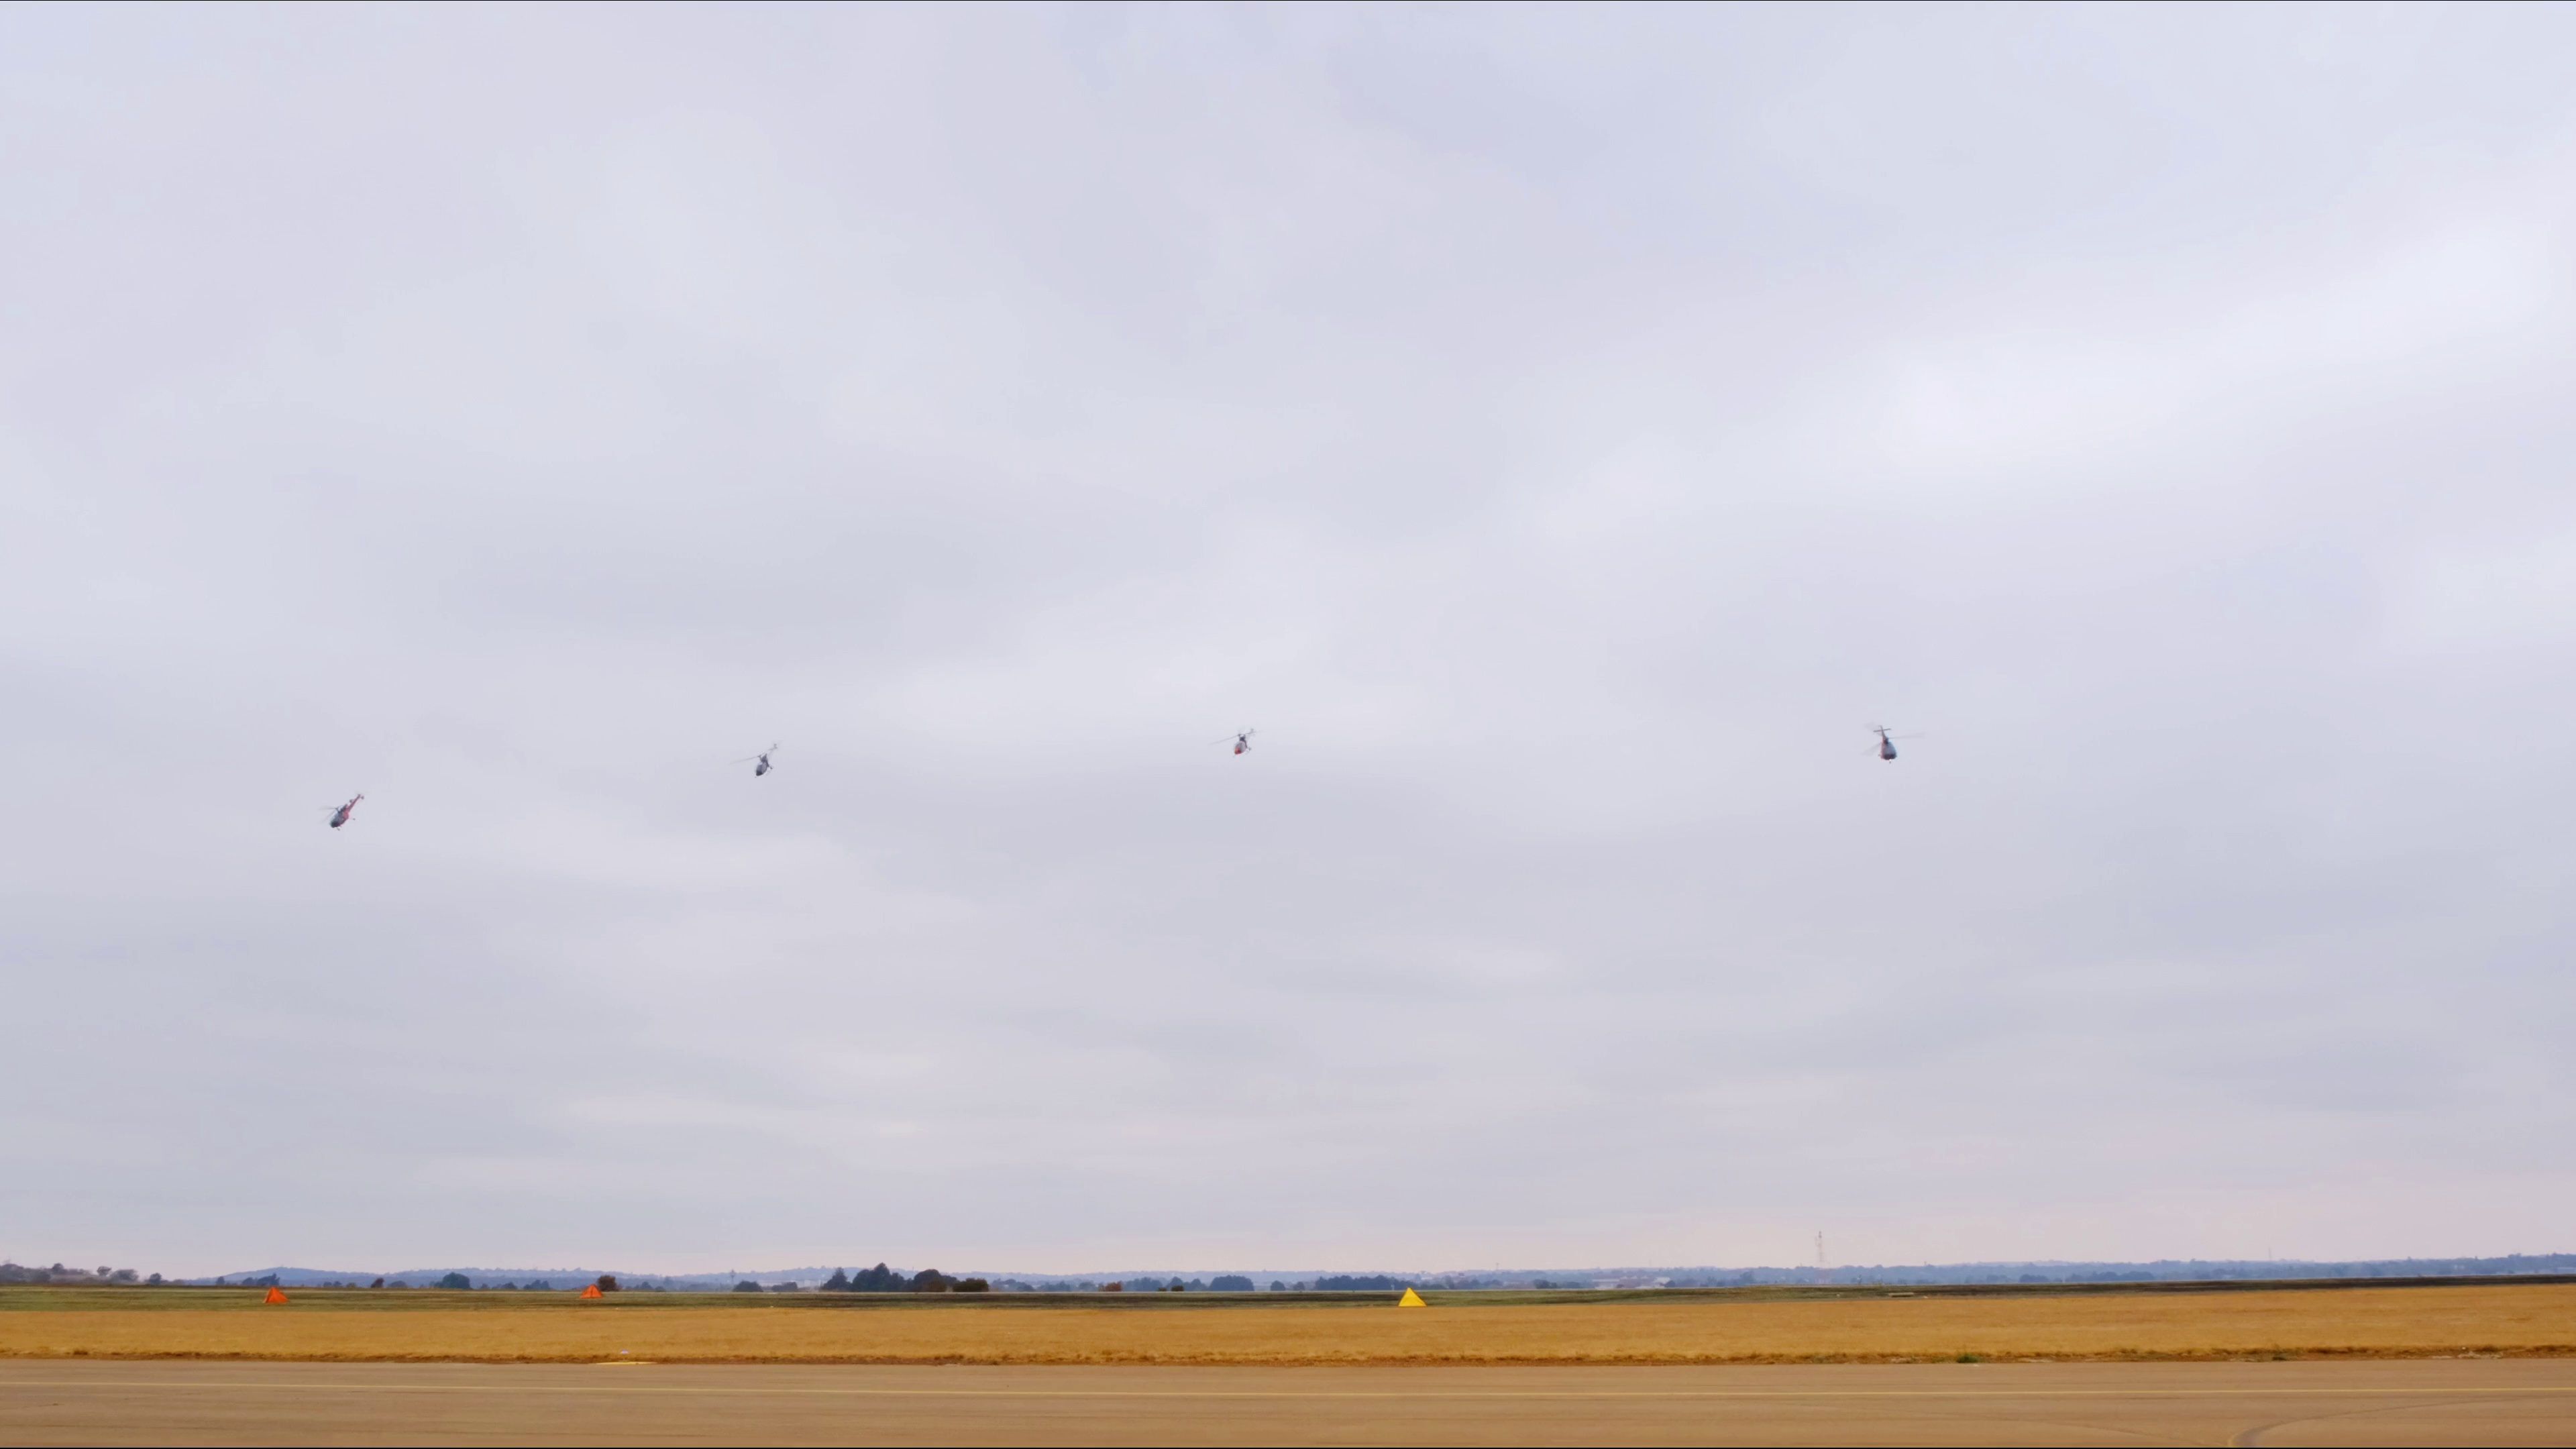heli: (1867, 722, 1907, 764), (326, 793, 364, 830), (741, 745, 782, 780), (1224, 722, 1258, 759)
